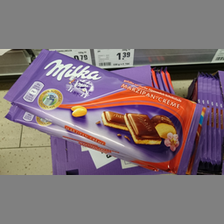chocolate: (10, 51, 194, 171)
